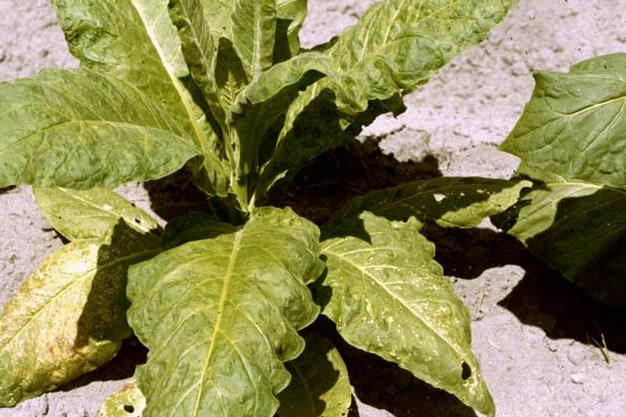Tomato leaf mosaic virus: (260, 0, 572, 176), (122, 208, 328, 417), (324, 189, 490, 397), (0, 81, 189, 202)
